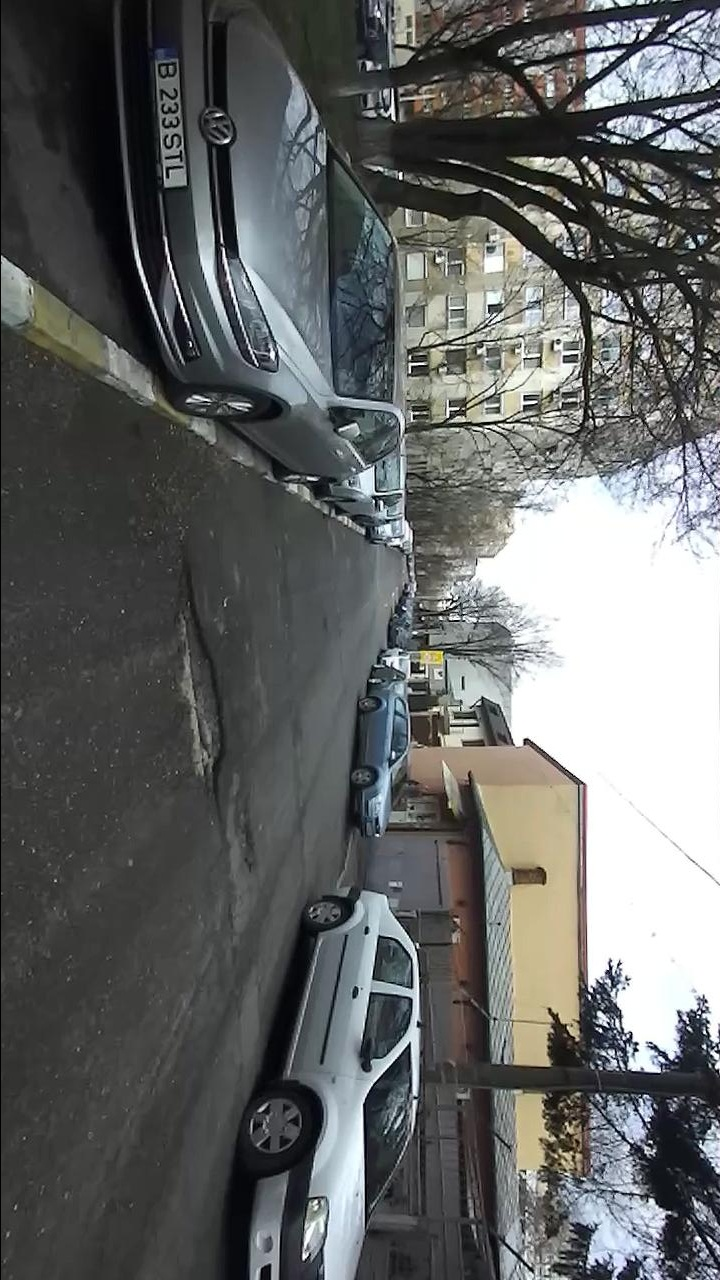pothole: (171, 556, 229, 835), (239, 791, 263, 876)
